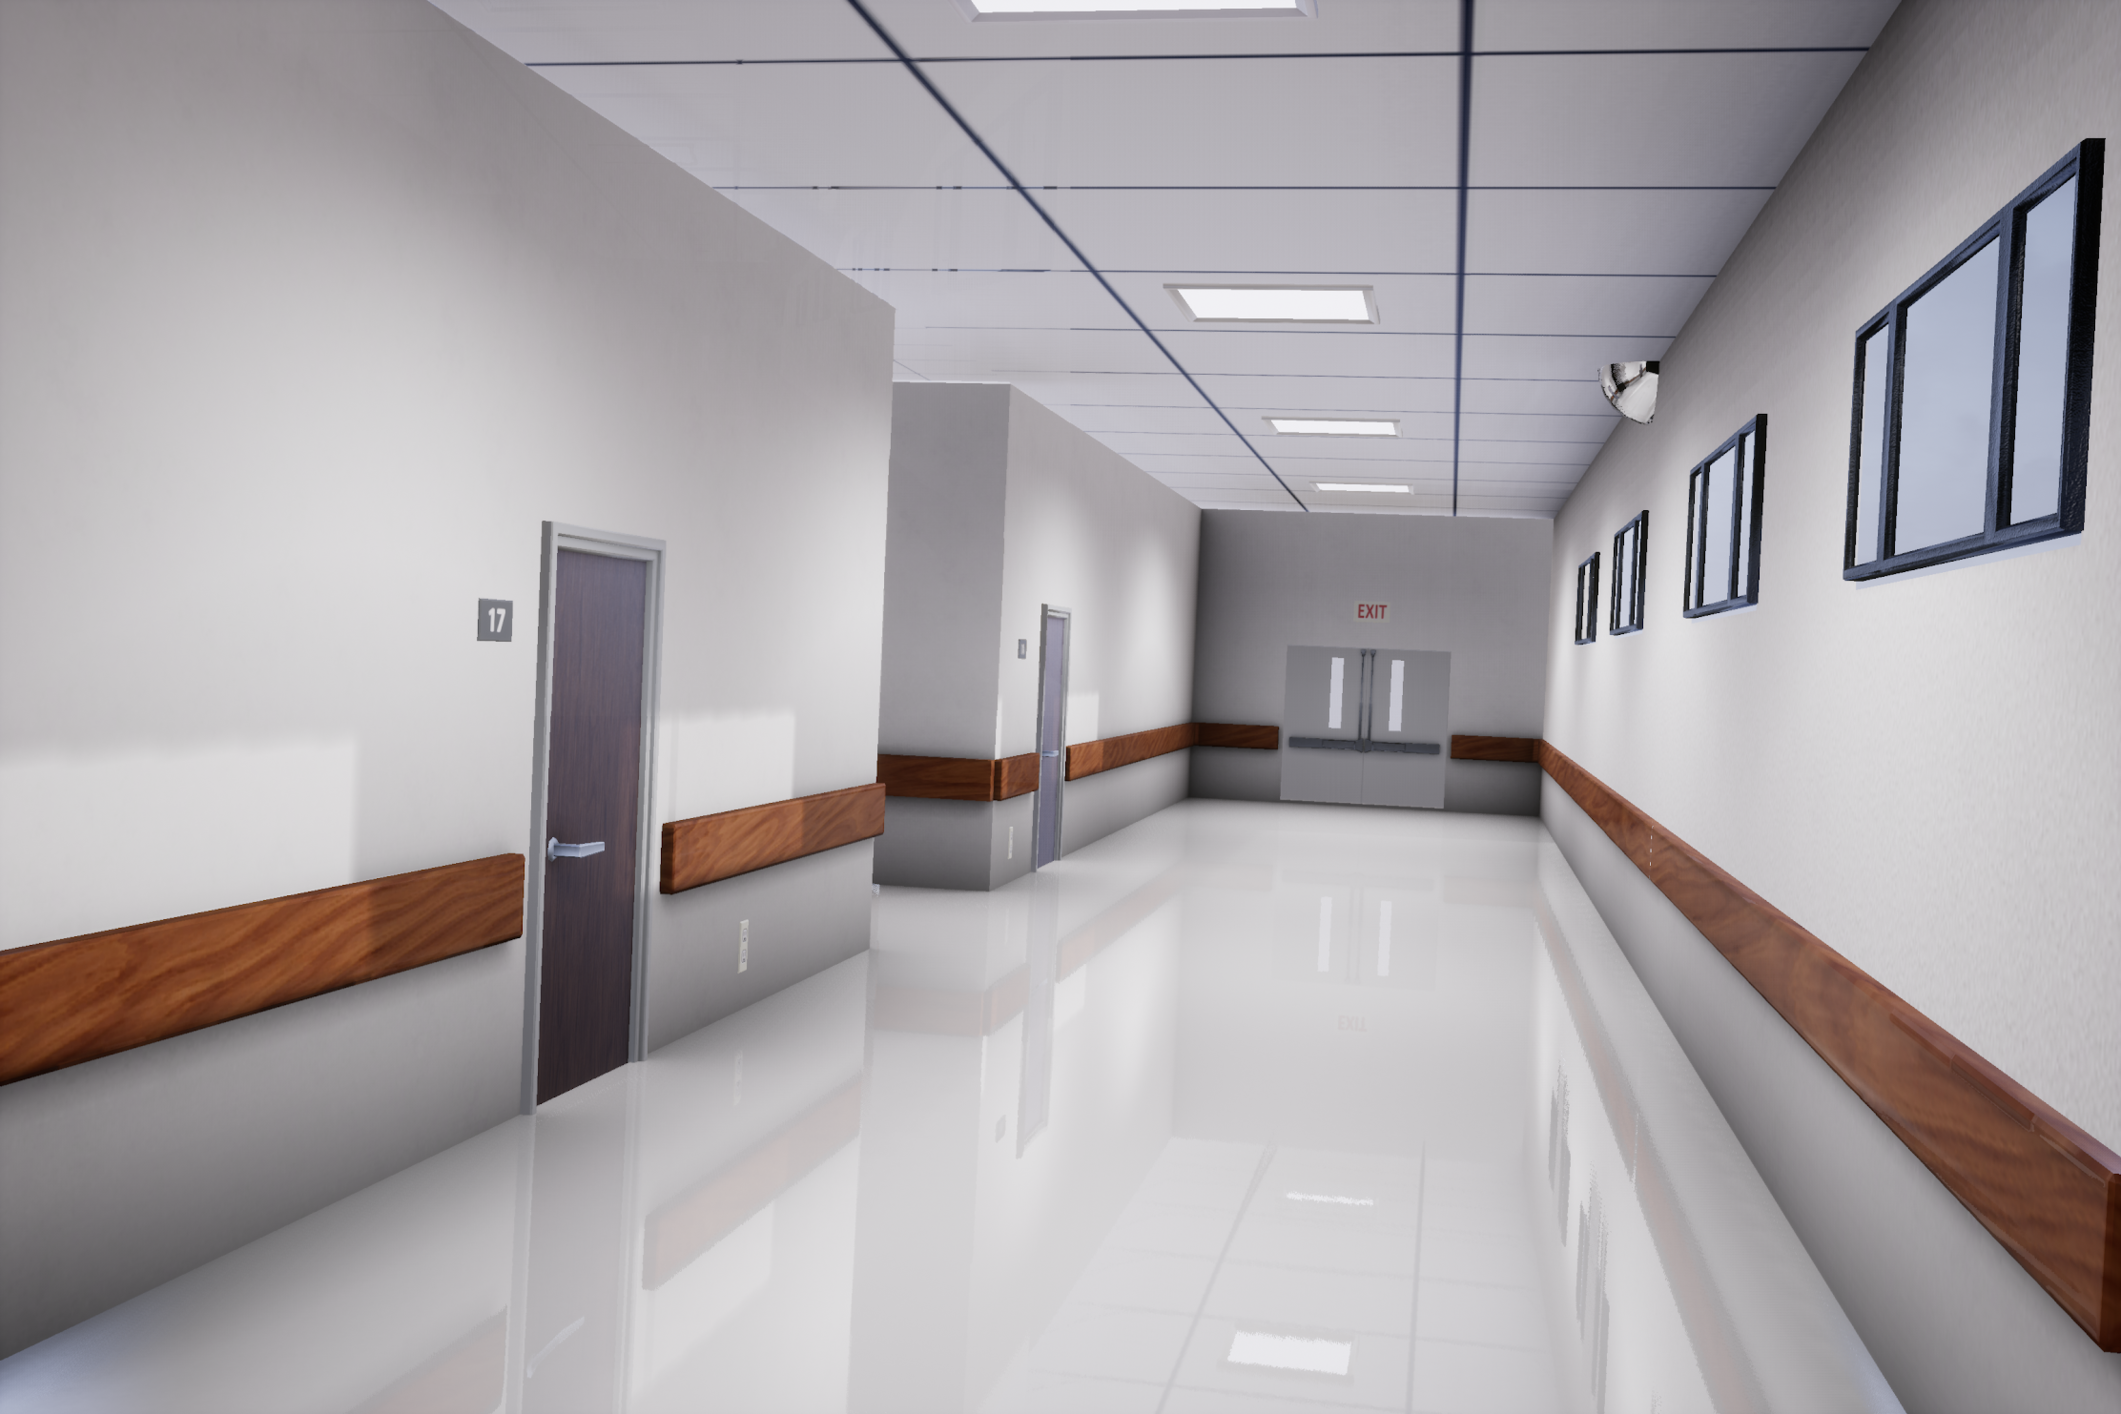door_handle: (546, 829, 611, 863), (1049, 732, 1067, 780)
push_latch: (1365, 739, 1438, 759), (1283, 737, 1363, 754)
